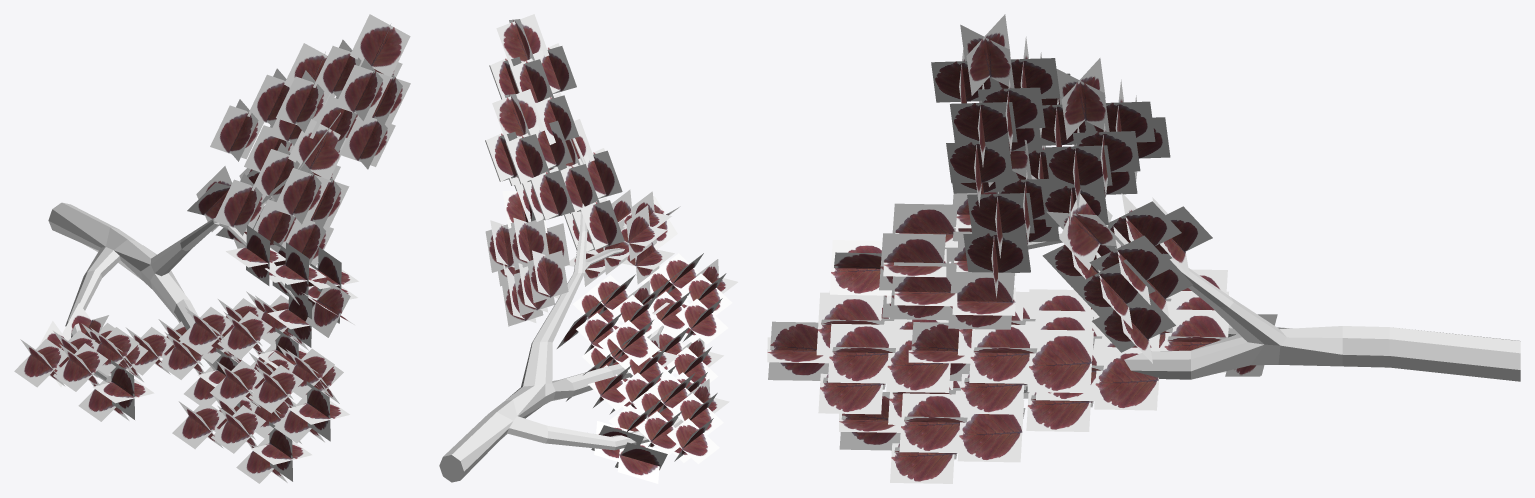
File: ArbolAbel.fbx
3 views of the same model, side by side, from view 1: azimuth 30°, elevation 25°; view 2: azimuth 150°, elevation 25°; view 3: azimuth 270°, elevation 25° (orthographic). The views are drawn at different scales.
Visible parts, largest first — view 1: Plane.159, Tallo; view 2: Plane.159, Tallo; view 3: Plane.159, Tallo.
Part boxes in pixels (x1,y1,x2,y2): Plane.159: [14, 14, 410, 483]; Tallo: [48, 112, 340, 382]; Plane.159: [485, 14, 737, 483]; Tallo: [439, 138, 683, 482]; Plane.159: [767, 14, 1277, 483]; Tallo: [1023, 175, 1520, 392].
Bounding box in the file's own units: 2.28 × 2.91 × 3.59.
Materials: 1 (1 with a texture image).
